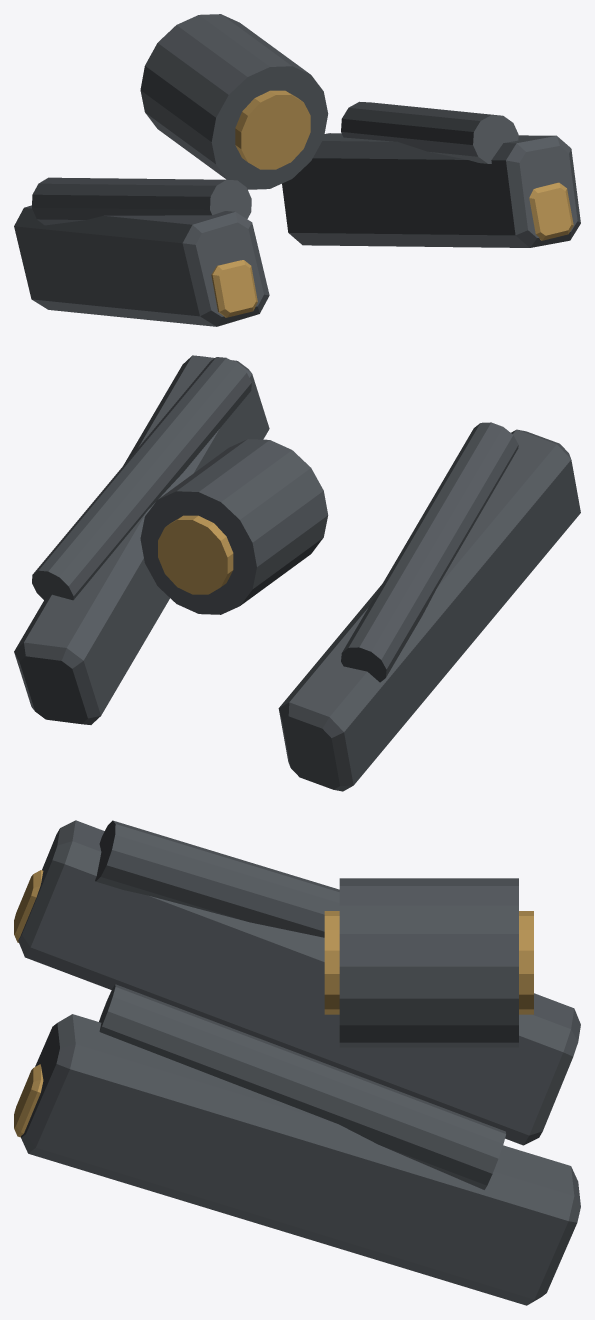
File: odm-gear.glb
3 renders of one model, top to bottom at view 1: azimuth 30°, elevation 25°; view 2: azimuth 150°, elevation 25°; view 3: azimuth 270°, elevation 25°, orthographic. The views are drawn at different scales.
Parts seen in each view (by area): view 1: mat_metal, mat_brass; view 2: mat_metal, mat_brass; view 3: mat_metal, mat_brass.
Boxes of the visible parts, x1=… form: mat_metal: x1=14, y1=14, x2=580, y2=326; mat_brass: x1=211, y1=90, x2=573, y2=317; mat_metal: x1=14, y1=355, x2=580, y2=791; mat_brass: x1=158, y1=515, x2=233, y2=594; mat_metal: x1=18, y1=820, x2=580, y2=1305; mat_brass: x1=14, y1=870, x2=533, y2=1137.
Size of the model in its own units: 0.5671 by 0.3642 by 0.5686.
